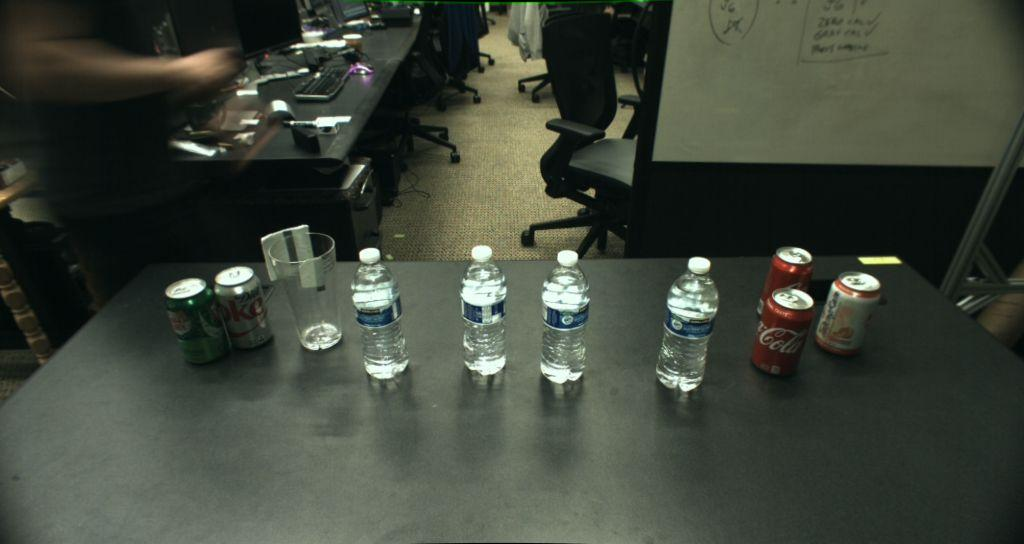can_coke: (753, 288, 815, 378)
can_diet_coke: (213, 265, 274, 350)
can_ginger_ale: (165, 276, 229, 364)
can_talking_rain_peach_nectarine: (814, 270, 881, 357)
water_bottle: (656, 257, 718, 391), (351, 247, 408, 379), (539, 249, 590, 383), (459, 245, 506, 375)
